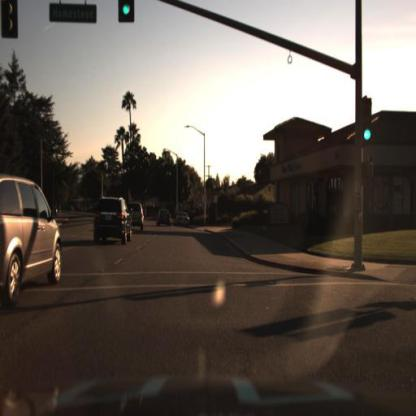car: (1, 160, 68, 329), (85, 193, 133, 251), (129, 197, 148, 241), (155, 203, 173, 232), (174, 208, 192, 229)
trafficLight-Green: (362, 101, 374, 142)
